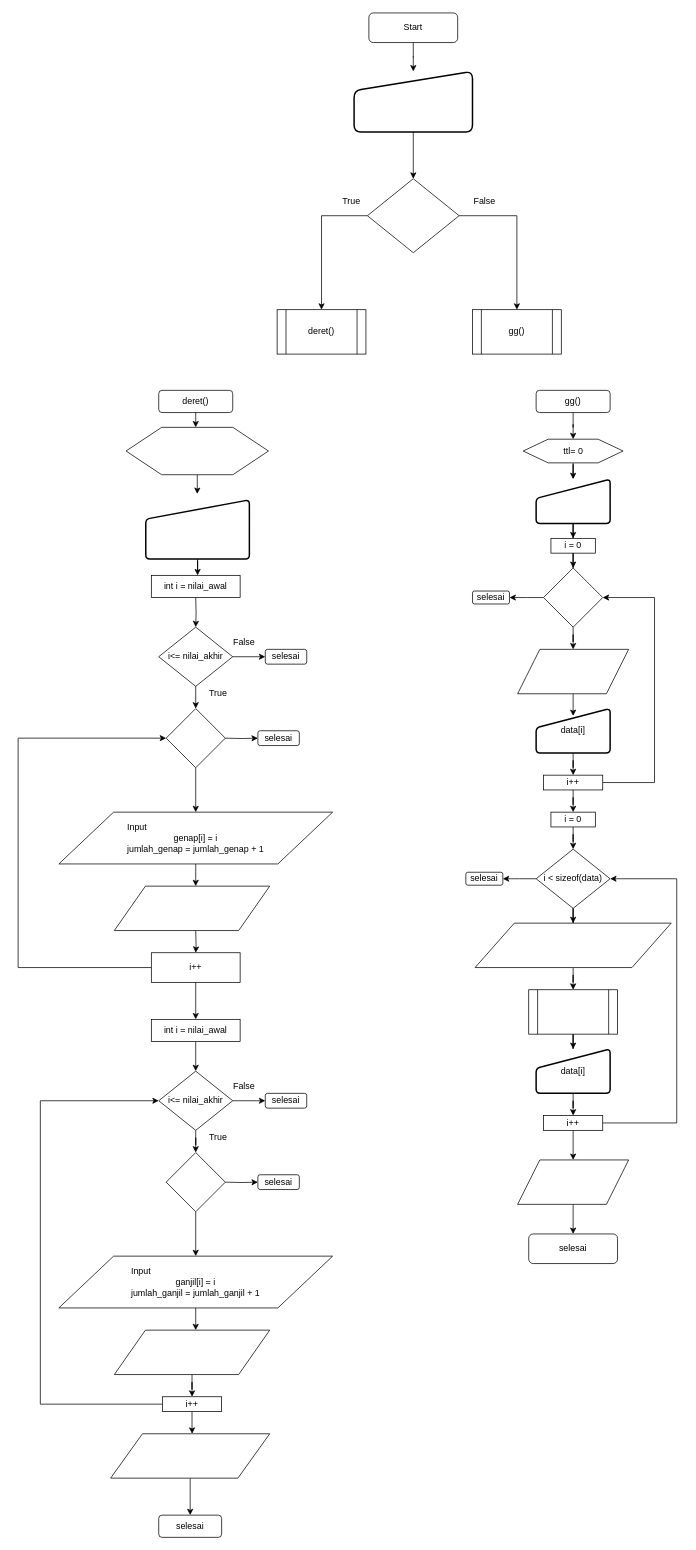
Image size: 696x1550. Some labels were removed from this diagram. Each missing label, with the centre of its shape:
"i < index" goes at point (573, 597).
"i%2 == 0" goes at point (195, 738).
"i%2 > 0" goes at point (195, 1182).
"index" goes at point (572, 501).
"Input select" goes at point (413, 101).
"jumlah_genap =0 jumlah_ganjil = 0" goes at point (196, 451).
"keterangan()" goes at point (573, 1011).
"nilai_awal nilai_akhir" goes at point (197, 529).
"Output data[i] ttl += data[i]" goes at point (572, 945).
"Output ganjil[i]" goes at point (192, 1352).
"Output genap[i]" goes at point (192, 908).
"Output i" goes at point (573, 671).
"Output jumlah_genap jumlah_ganjil" goes at point (190, 1455).
"Output ttl" goes at point (573, 1181).
"select == A" goes at point (413, 215).
